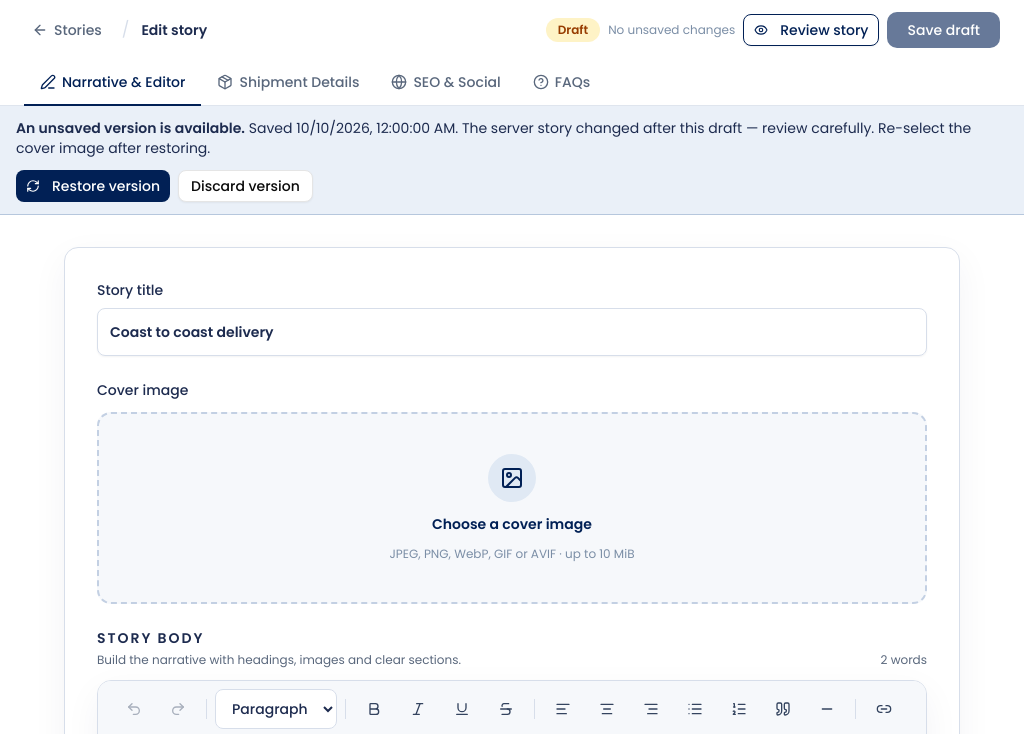
Test: story editorial workflow › offers recovery and flags a newer server version
Expected: the text "The server story changed" is shown, x1=458 y1=118 x2=874 y2=138
Click the button "Restore version": (93, 186) x1=16 y1=170 x2=170 y2=202
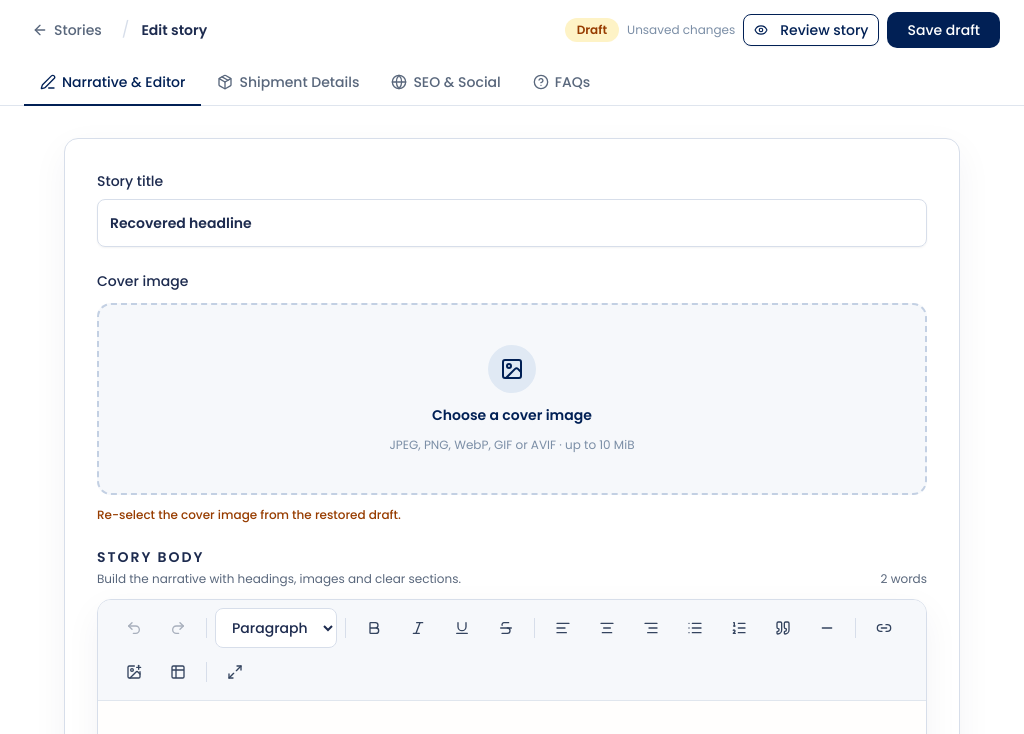
Expected: the field labelled "Story title" holds "Recovered headline", x1=97 y1=199 x2=927 y2=247
Expected: the text "Re-select the cover image from the restored draft." is shown, x1=97 y1=506 x2=401 y2=523
